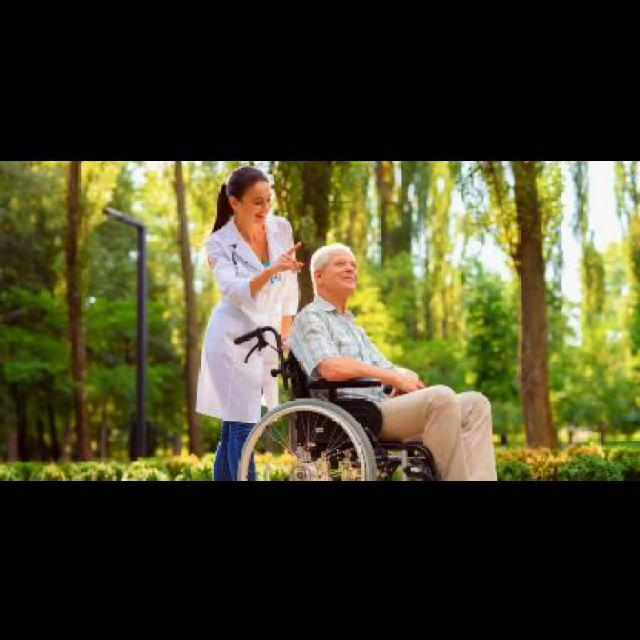wheelchairs: (232, 322, 465, 480)
